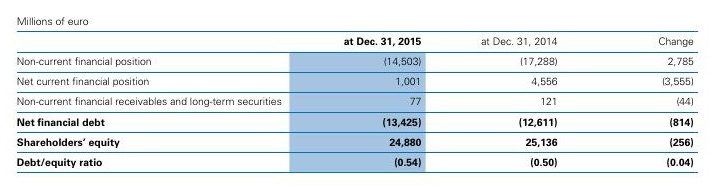table: (0, 0, 715, 188)
